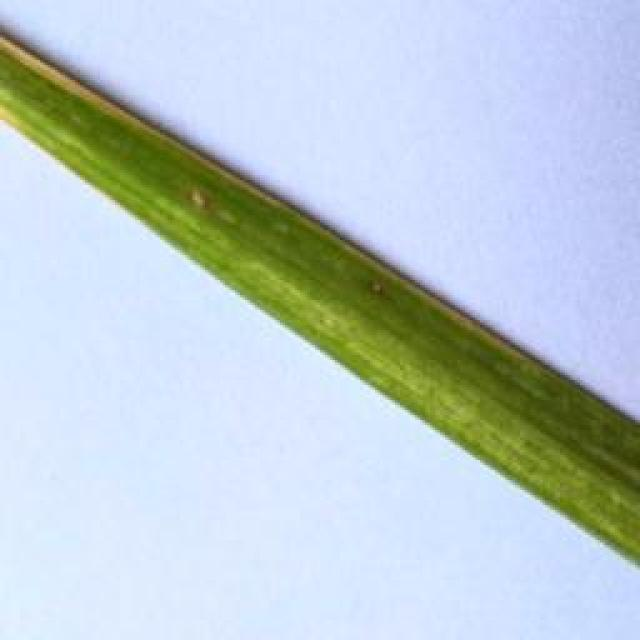Unhealthy: (0, 31, 534, 360), (186, 187, 213, 209), (370, 281, 385, 294)
